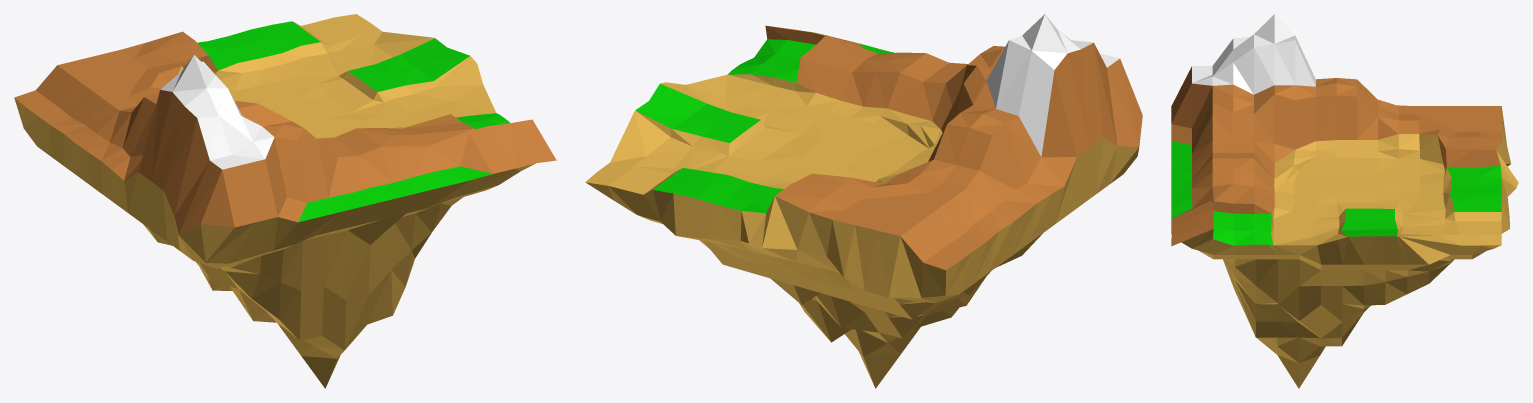
Rendered from mountain.fbx.
The picture shows the model from 3 angles, left to right: view 1: azimuth 30°, elevation 25°; view 2: azimuth 150°, elevation 25°; view 3: azimuth 270°, elevation 25°; orthographic projection. The views are drawn at different scales.
Visible parts, largest first — view 1: Plane.001; view 2: Plane.001; view 3: Plane.001.
Part boxes in pixels (x1=…): Plane.001: x1=14, y1=14, x2=556, y2=388; Plane.001: x1=585, y1=14, x2=1142, y2=388; Plane.001: x1=1171, y1=14, x2=1518, y2=388.
Bounding box in the file's own units: 1273 × 1238 × 1234.
